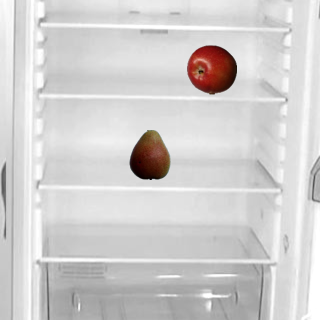Apple Braeburn: (186, 44, 236, 94)
Pear Forelle: (124, 129, 174, 179)
